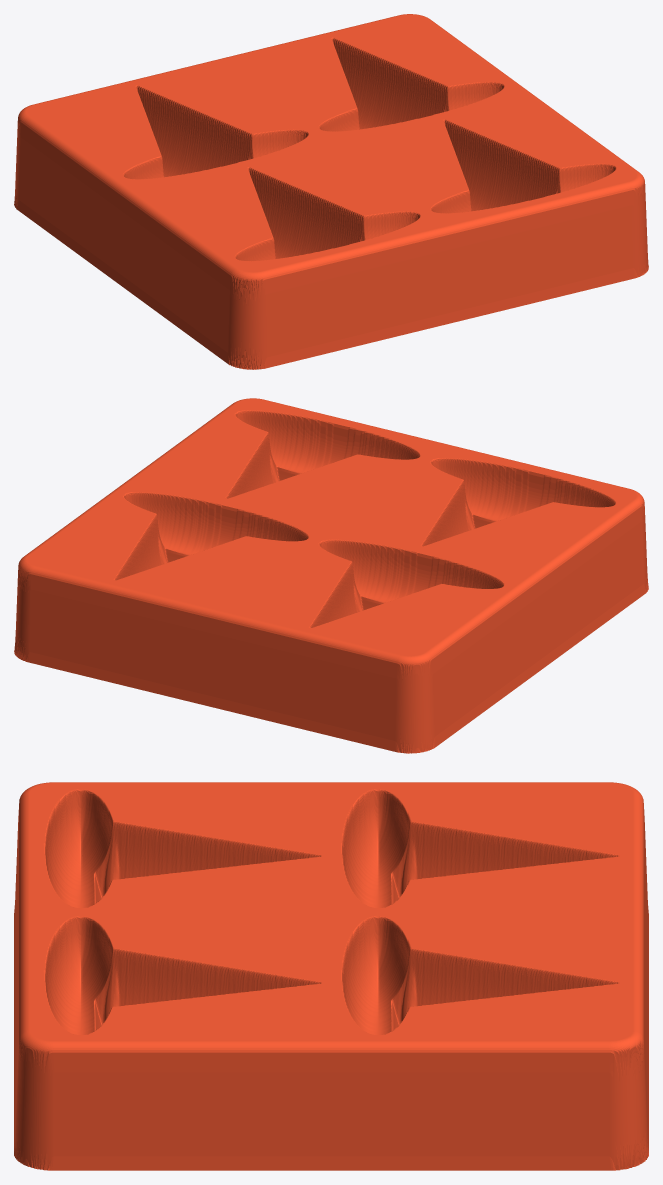
Rendered from mold.glb.
3 views of the same model, one above another, from view 1: azimuth 30°, elevation 25°; view 2: azimuth 150°, elevation 25°; view 3: azimuth 270°, elevation 25° (orthographic). The views are drawn at different scales.
Parts seen in each view (by area): view 1: geometry_0; view 2: geometry_0; view 3: geometry_0.
Part boxes in pixels (<box>): geometry_0: <box>14,14,648,369</box>; geometry_0: <box>14,398,648,753</box>; geometry_0: <box>14,782,648,1170</box>.
Bounding box in the file's own units: 0.1466 × 0.031 × 0.1452.
